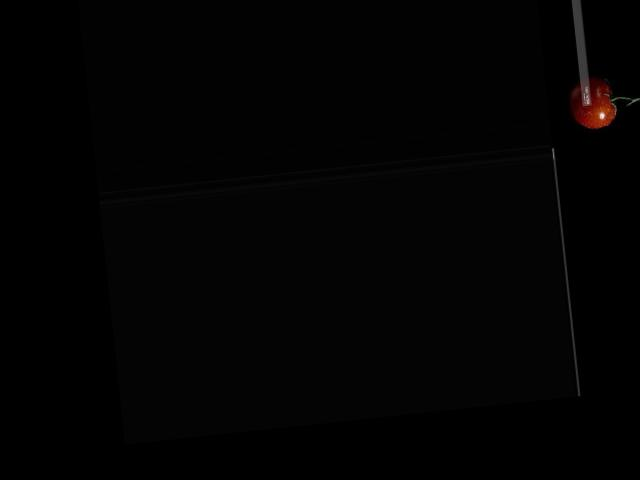tomato: (569, 76, 616, 130)
